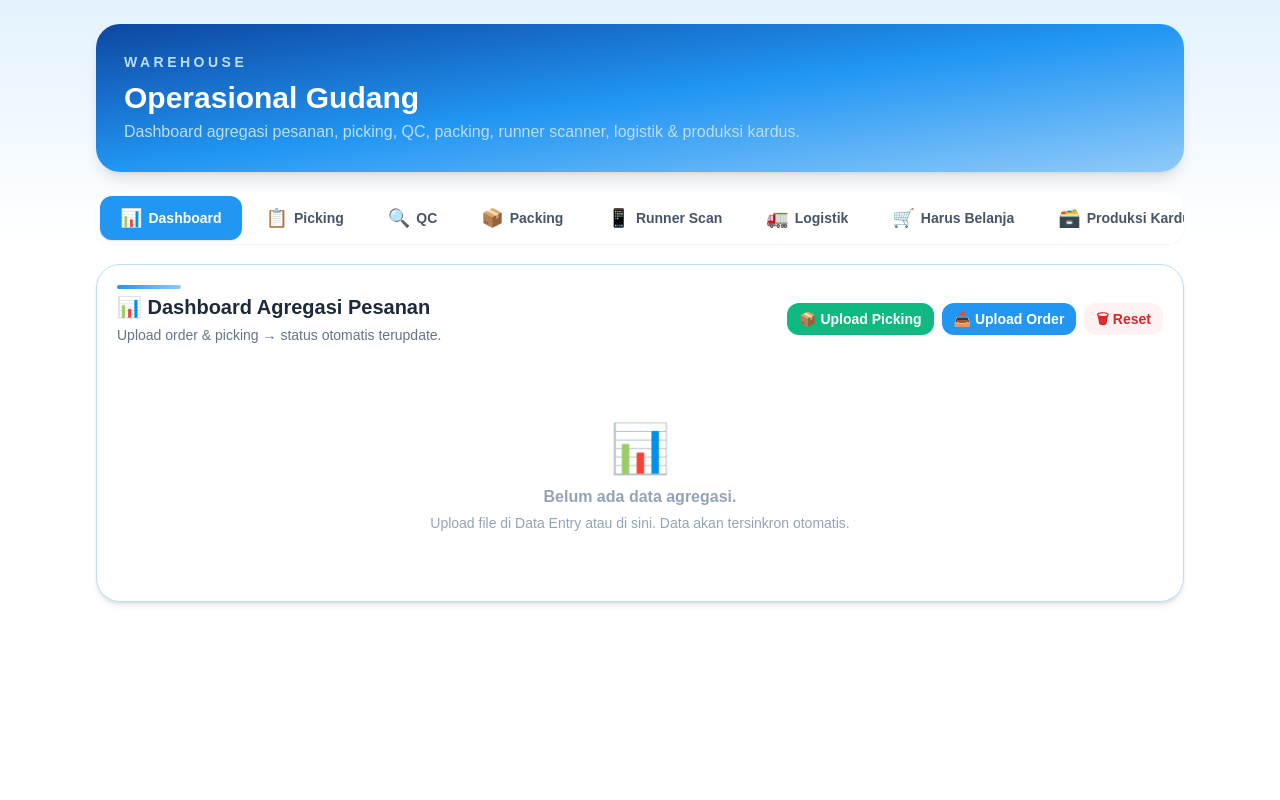
Test case: OperasionalGudangPage › switches to Picking tab
The width and height of the screenshot is (1280, 800).
Click the tab "📋 Picking" at (305, 218), box [246,196,364,240]
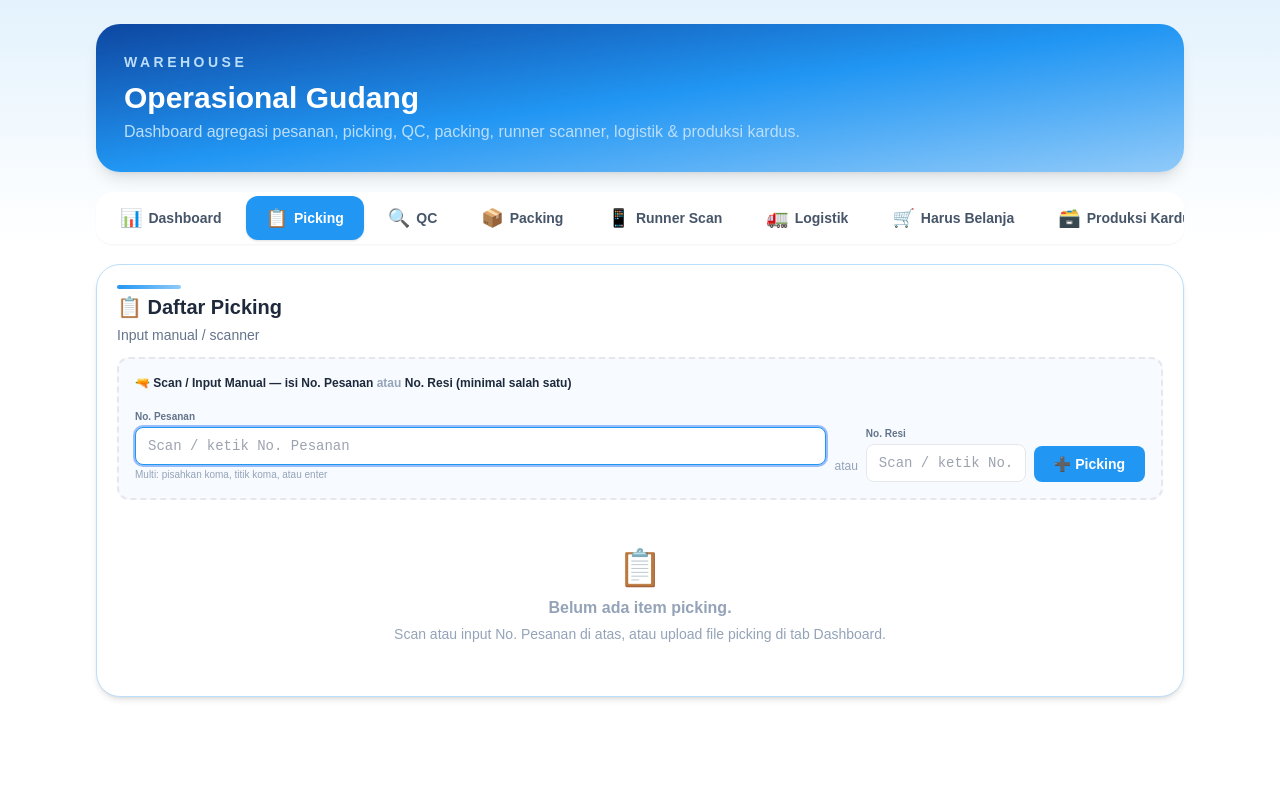
Result: the heading "📋 Daftar Picking" is shown at [117,293,282,321]
Result: the text "Belum ada item picking." is shown at [548,599,732,616]
